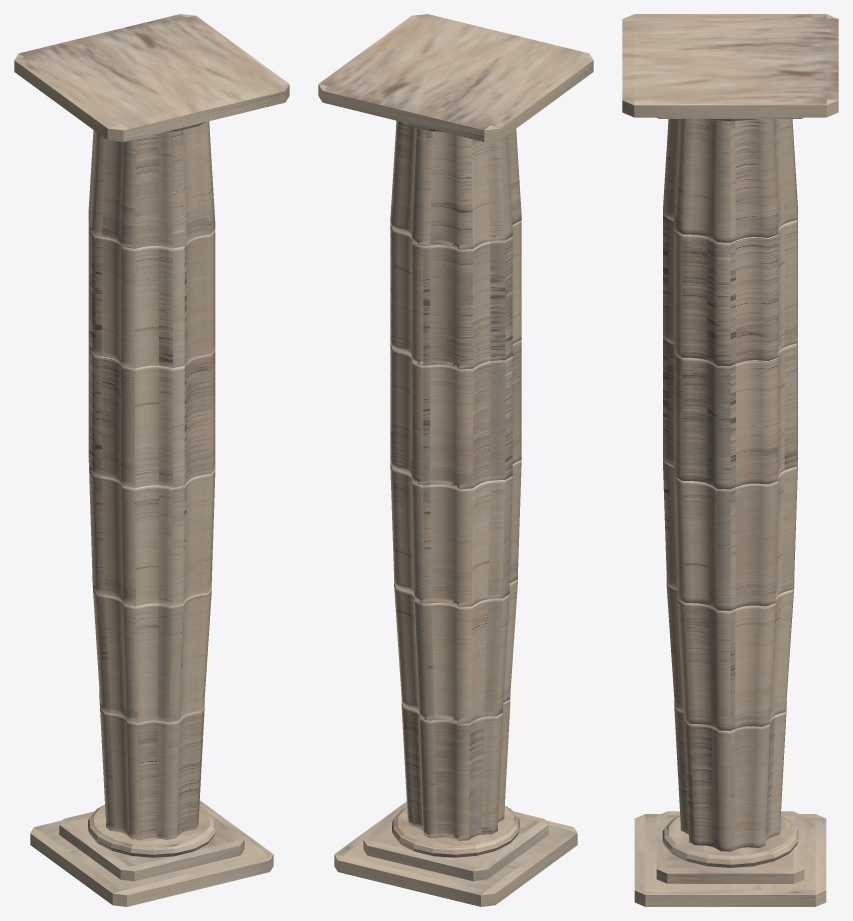
Rendered from GreekTemplePillar.obj.
3 renders of one model, left to right at view 1: azimuth 30°, elevation 25°; view 2: azimuth 150°, elevation 25°; view 3: azimuth 270°, elevation 25°, orthographic. The views are drawn at different scales.
Visible parts, largest first — view 1: Bottom_P_Cube.001; view 2: Bottom_P_Cube.001; view 3: Bottom_P_Cube.001.
Part boxes in pixels (x1,y1,x2,y2): Bottom_P_Cube.001: [14, 14, 289, 906]; Bottom_P_Cube.001: [318, 14, 593, 906]; Bottom_P_Cube.001: [622, 14, 838, 906].
Size of the model in its own units: 0.896 by 3.69 by 0.896.
